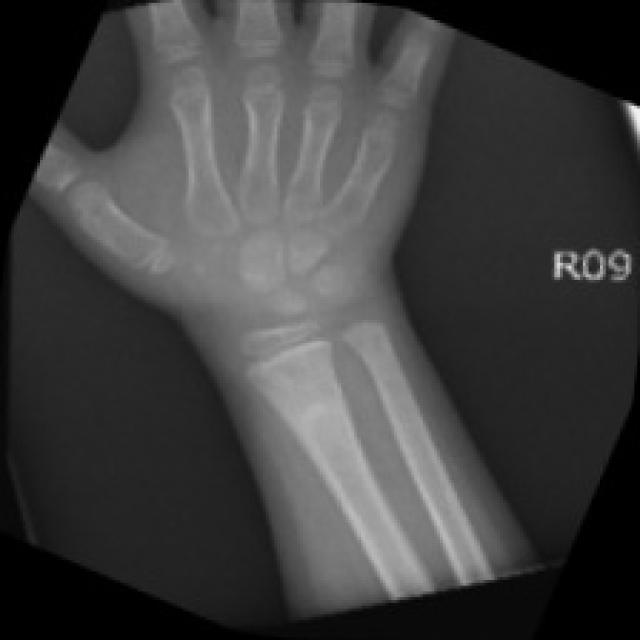fracture: (316, 278, 419, 372)
